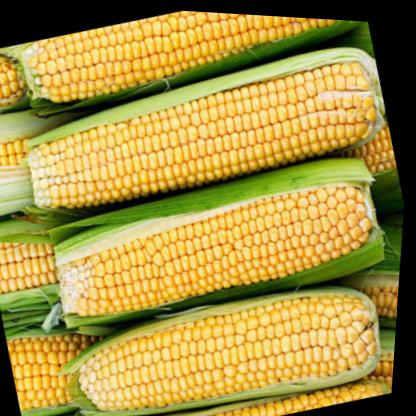---: (3, 16, 401, 242), (38, 150, 397, 341), (67, 251, 402, 416), (14, 1, 373, 126), (74, 345, 398, 416), (3, 310, 104, 416), (0, 208, 75, 304), (331, 104, 404, 185), (362, 318, 400, 392)
